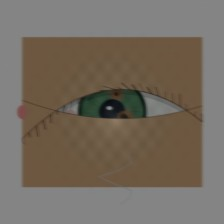foreign_body_visible: (107, 87, 126, 102)
